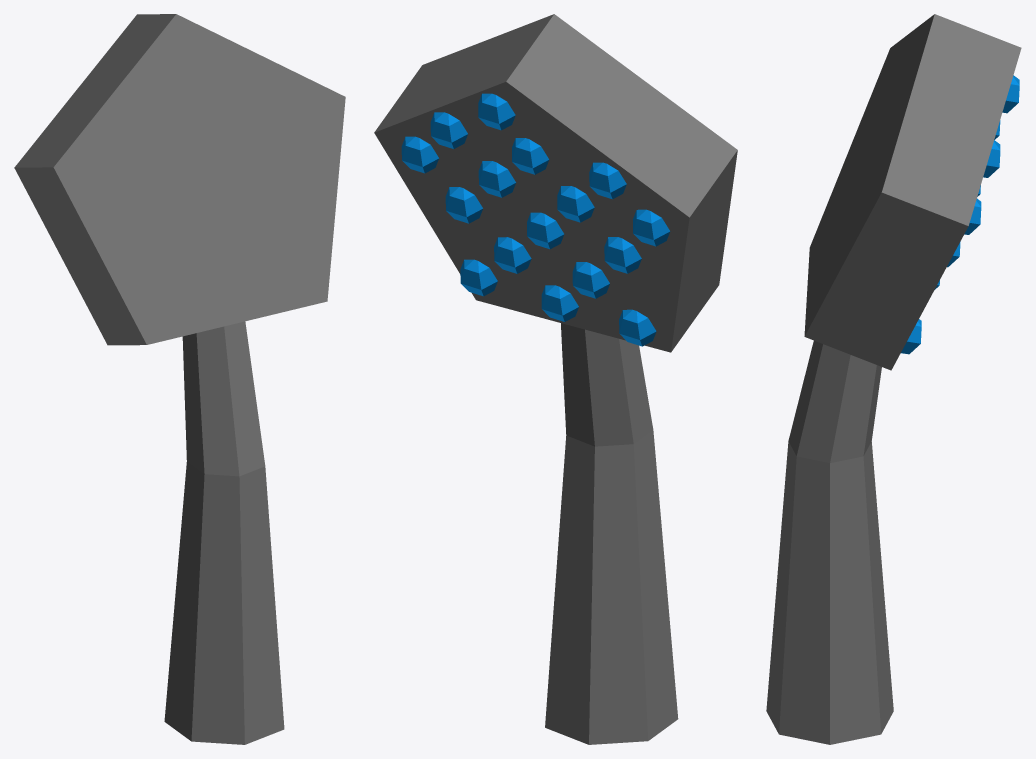
The model's file is shower.fbx.
3 renders of one model, left to right at view 1: azimuth 30°, elevation 25°; view 2: azimuth 150°, elevation 25°; view 3: azimuth 270°, elevation 25°, orthographic. The views are drawn at different scales.
Visible parts, largest first — view 1: pCylinder3; view 2: pCylinder3; view 3: pCylinder3.
Boxes of the visible parts, x1,y1,x2,y2 form: pCylinder3: (14,14,345,744); pCylinder3: (374,14,737,744); pCylinder3: (766,14,1021,744).
Bounding box in the file's own units: 32.18 × 70.94 × 23.34.
